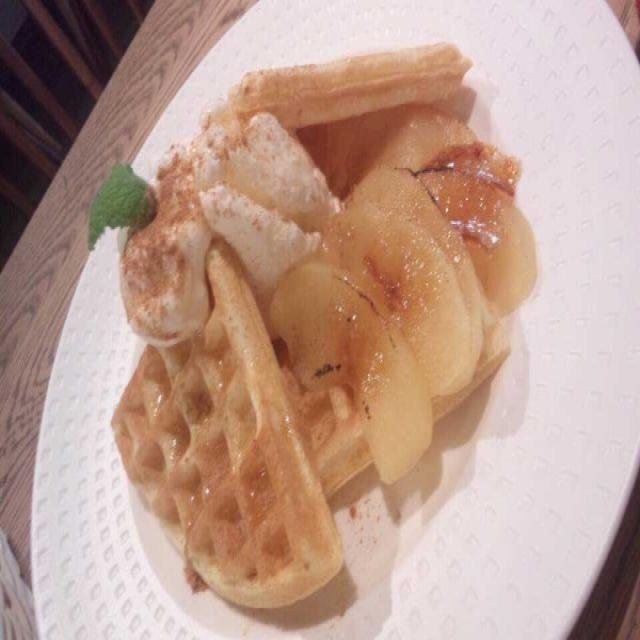炸货点心: (16, 37, 636, 629)
蛋糕甜品: (16, 37, 636, 629)
